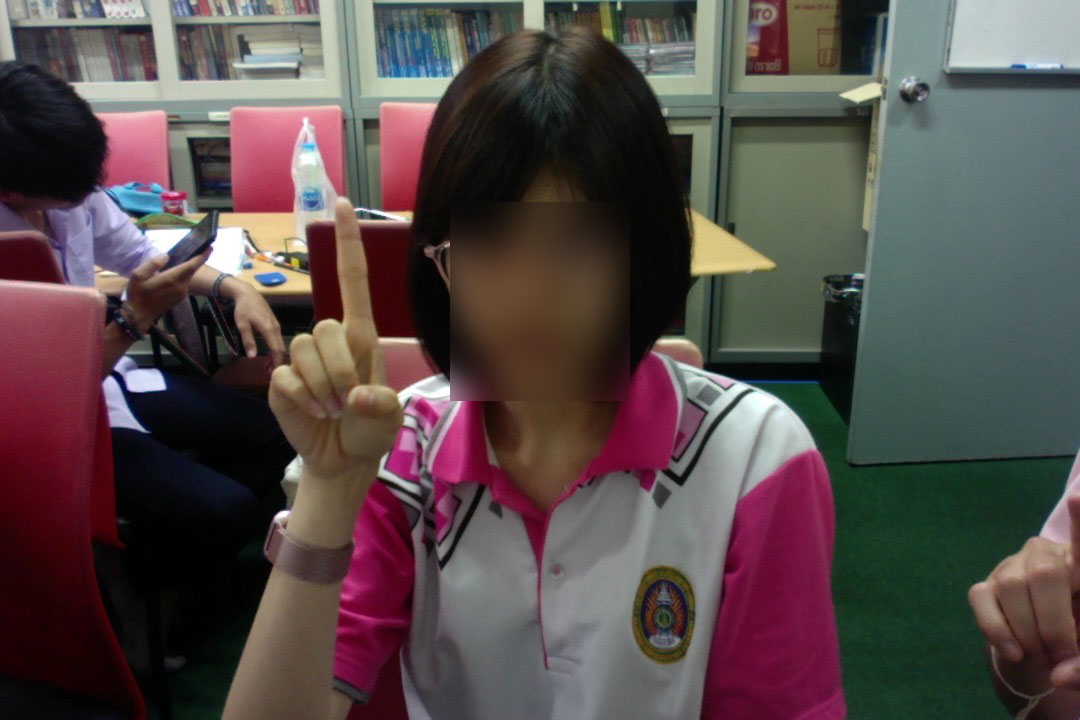dor: (265, 191, 405, 507)
